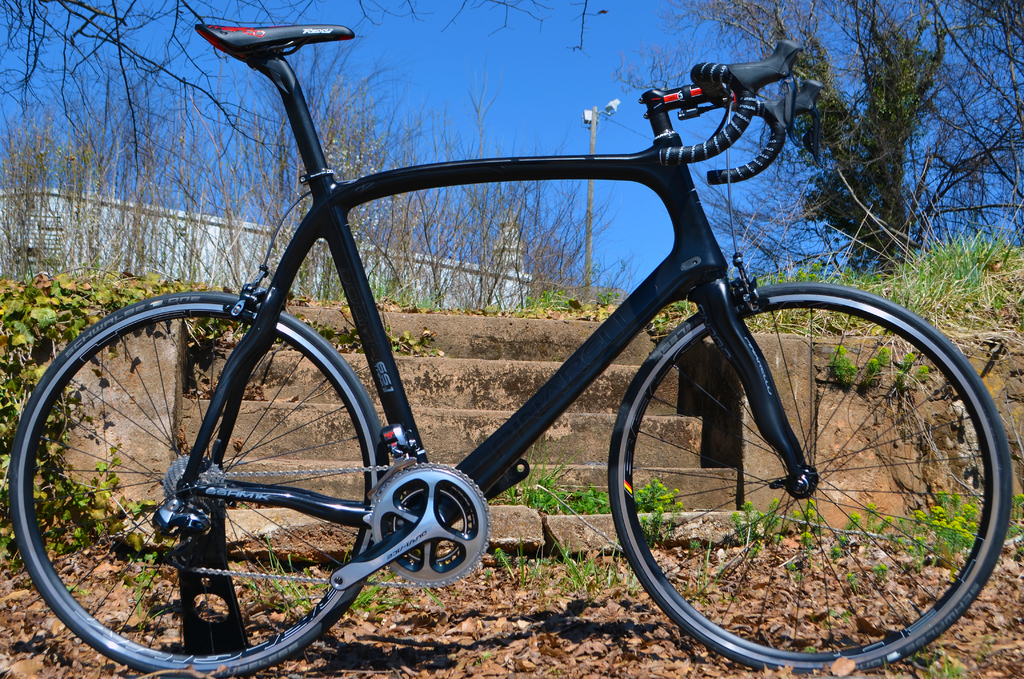Bike: (125, 87, 891, 618)
